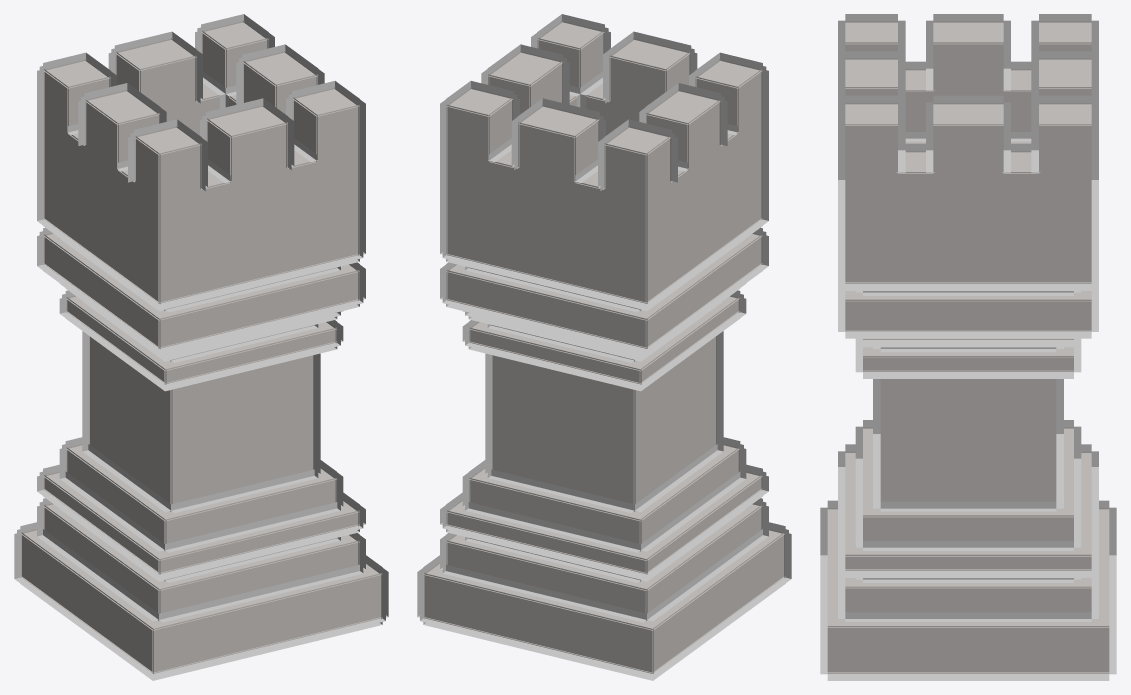
The model's file is white-rook.glb.
3 views of the same model, side by side, from view 1: azimuth 30°, elevation 25°; view 2: azimuth 150°, elevation 25°; view 3: azimuth 270°, elevation 25° (orthographic). The views are drawn at different scales.
Visible parts, largest first — view 1: chess-rock-white_model; view 2: chess-rock-white_model; view 3: chess-rock-white_model.
Boxes of the visible parts, x1,y1,x2,y2 form: chess-rock-white_model: (14,14,388,680); chess-rock-white_model: (417,14,791,680); chess-rock-white_model: (820,14,1116,680).
Bounding box in the file's own units: 1.68 × 3.48 × 1.68.
Materials: 2 (1 with a texture image).
